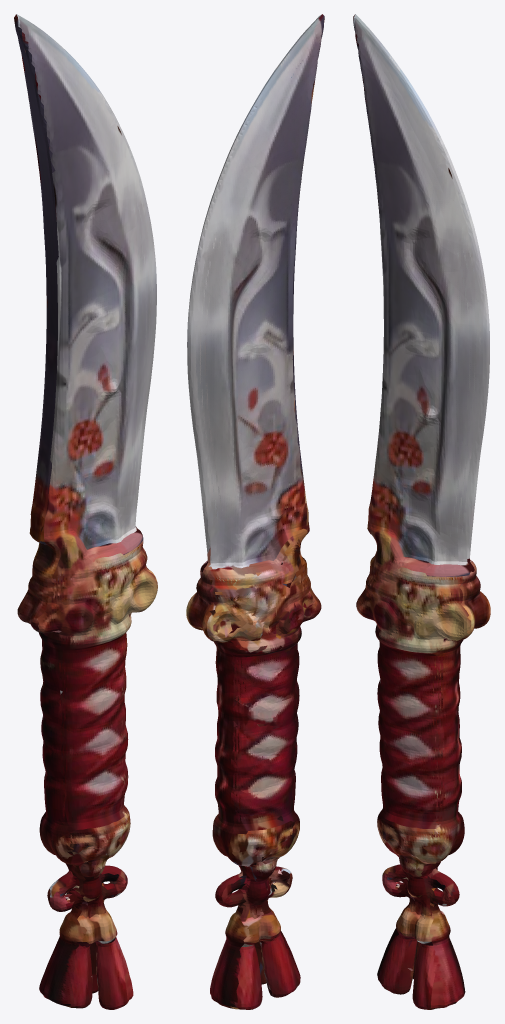
Rendered from tanto_source.glb.
The picture shows the model from 3 angles, left to right: view 1: azimuth 30°, elevation 25°; view 2: azimuth 210°, elevation 25°; view 3: azimuth 330°, elevation 25°; orthographic projection. The views are drawn at different scales.
Parts seen in each view (by area): view 1: temp_mesh.ply; view 2: temp_mesh.ply; view 3: temp_mesh.ply.
Part boxes in pixels (box(x1,y1,x2,y2)): temp_mesh.ply: box(14, 14, 157, 1009); temp_mesh.ply: box(186, 14, 324, 1009); temp_mesh.ply: box(353, 14, 490, 1009).
Size of the model in its own units: 0.2924 by 1.97 by 0.1395.
1 material, 1 textured.
